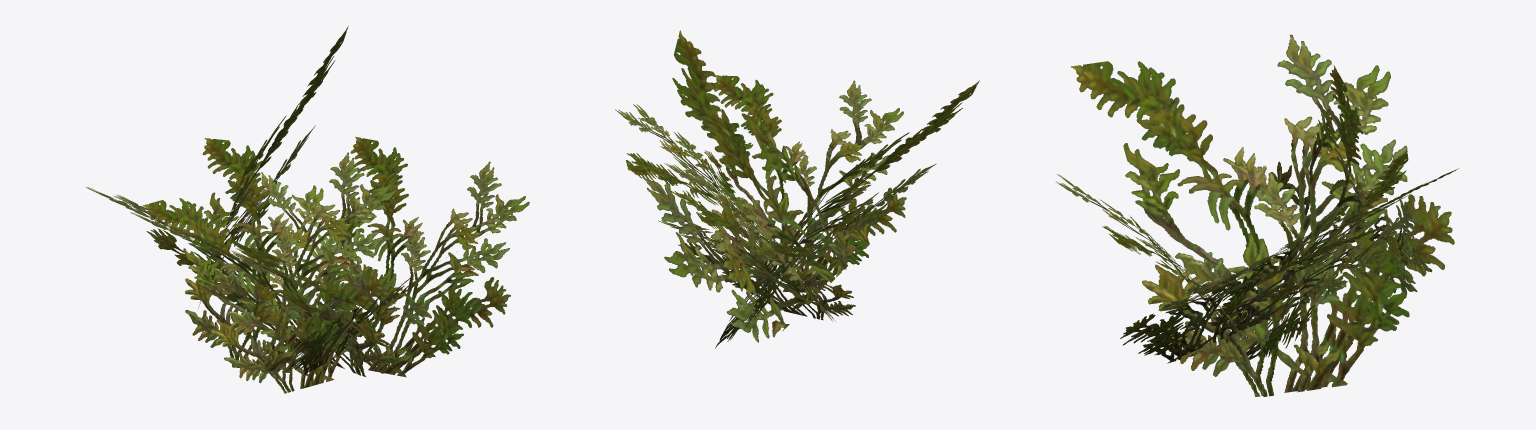
Rendered from SM_EN_2006_zhiwu01.FBX.
3 views of the same model, side by side, from view 1: azimuth 30°, elevation 25°; view 2: azimuth 150°, elevation 25°; view 3: azimuth 270°, elevation 25° (orthographic). The views are drawn at different scales.
Parts seen in each view (by area): view 1: SM_EN_2006_zhiwu01; view 2: SM_EN_2006_zhiwu01; view 3: SM_EN_2006_zhiwu01.
Part boxes in pixels (bbox=[...]): SM_EN_2006_zhiwu01: bbox=[86, 26, 529, 393]; SM_EN_2006_zhiwu01: bbox=[615, 30, 979, 348]; SM_EN_2006_zhiwu01: bbox=[1056, 34, 1459, 396].
Size of the model in its own units: 252 by 184 by 236.
